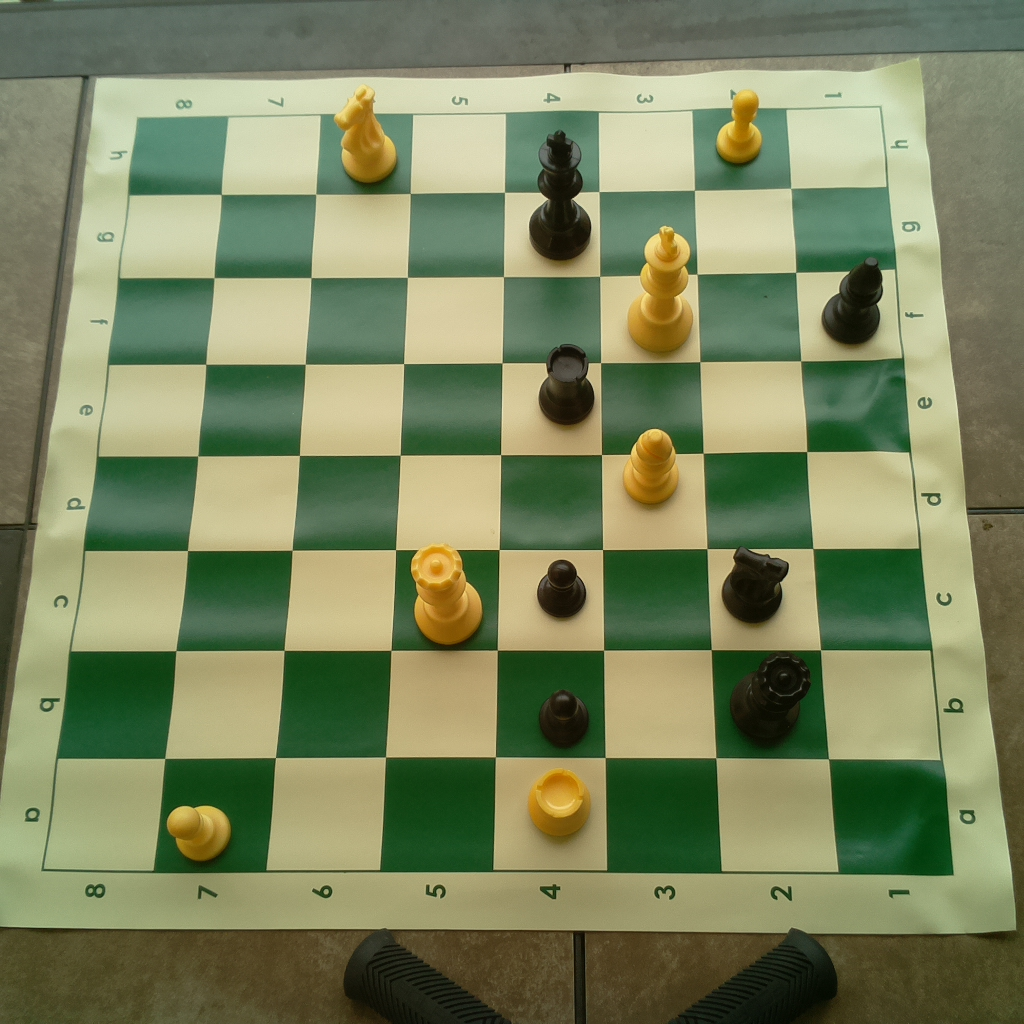black_bishop: (819, 253, 890, 348)
black_king: (528, 128, 593, 265)
black_knight: (720, 536, 794, 628)
black_pawn: (533, 552, 589, 621), (538, 686, 592, 749)
black_queen: (725, 647, 819, 748)
black_rook: (531, 340, 598, 431)
file_a: (41, 758, 953, 875)
file_b: (55, 653, 944, 760)
file_c: (70, 551, 934, 654)
file_d: (84, 456, 923, 549)
file_e: (99, 362, 910, 456)
file_f: (111, 267, 905, 360)
file_g: (119, 188, 896, 279)
file_h: (129, 105, 888, 188)
outline: (38, 105, 955, 877)
rank_1: (786, 106, 955, 875)
rank_2: (694, 109, 841, 873)
rank_3: (599, 108, 724, 874)
rank_4: (492, 112, 602, 871)
rank_5: (380, 113, 505, 871)
rank_6: (267, 117, 411, 874)
rank_7: (154, 118, 321, 871)
rank_8: (42, 115, 227, 871)
white_bishop: (621, 426, 681, 506)
white_king: (625, 222, 694, 356)
white_knight: (331, 78, 399, 187)
white_pawn: (166, 795, 236, 862), (714, 90, 771, 166)
white_queen: (406, 539, 486, 648)
white_rook: (525, 764, 598, 843)
